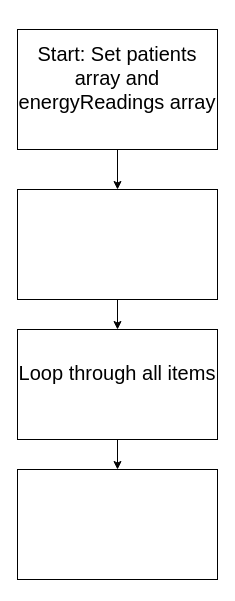
Some shapes in this 235 by 601 pixel diagram are drawn without their labels. Each missing label, with the centre of its shape:
End with all items processed: point (117, 524)
For each patient or for i in 0 to length: print item: point (117, 244)
